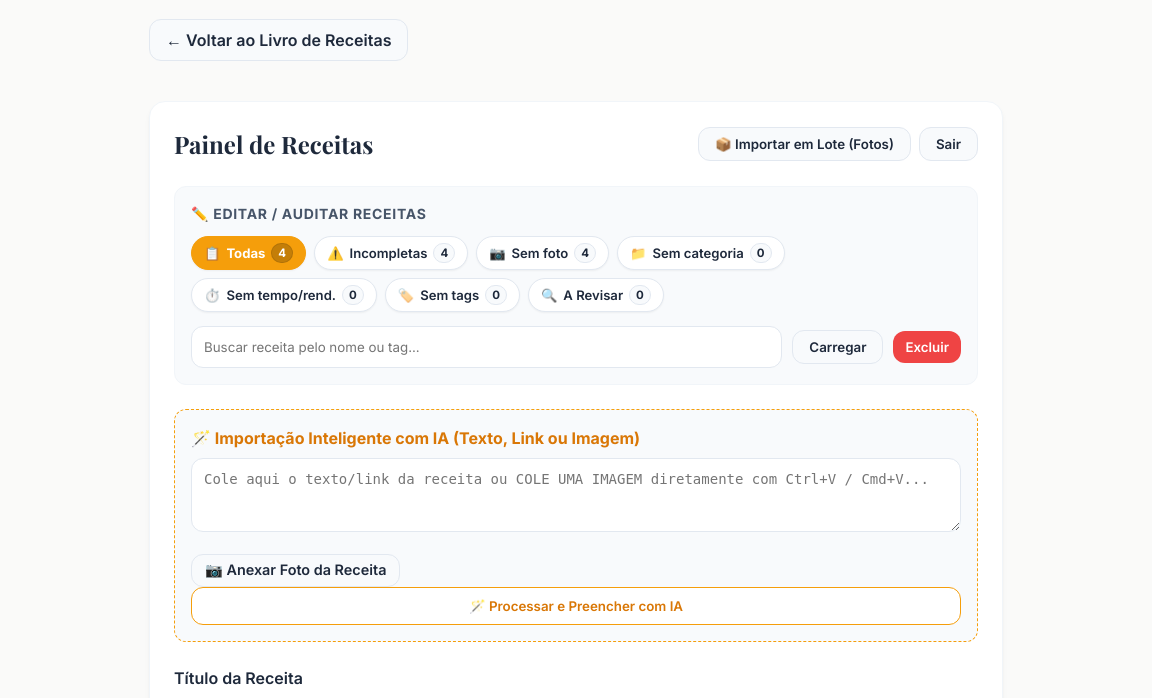
Test: Fluxo 6: Importação por IA → Fallback de Categoria em 3 Níveis (AIImportBox.integration.test.jsx) › Nível 3 (primeira disponível): faz fallback para a primeira categoria quando a categoria é desconhecida
Expected: the heading "Painel de Receitas" is shown, [174, 126, 373, 162]
Replace the text in the text box named "Texto, URL ou imagem da receita para importação inteligente" with "Receita desconhecida de outro mundo" at x=576, y=495, box [191, 458, 961, 532]
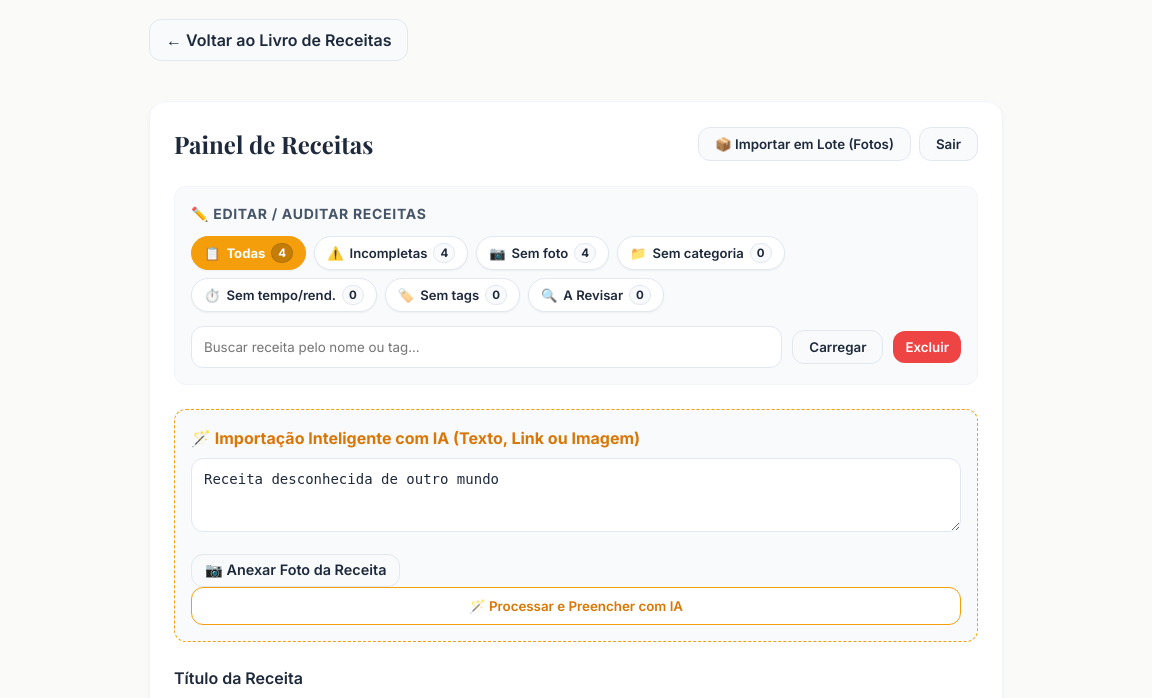
Click the button with aria-label "Importar e preencher receita com IA".
click(576, 606)  # box [191, 587, 961, 625]
(page scrolled)
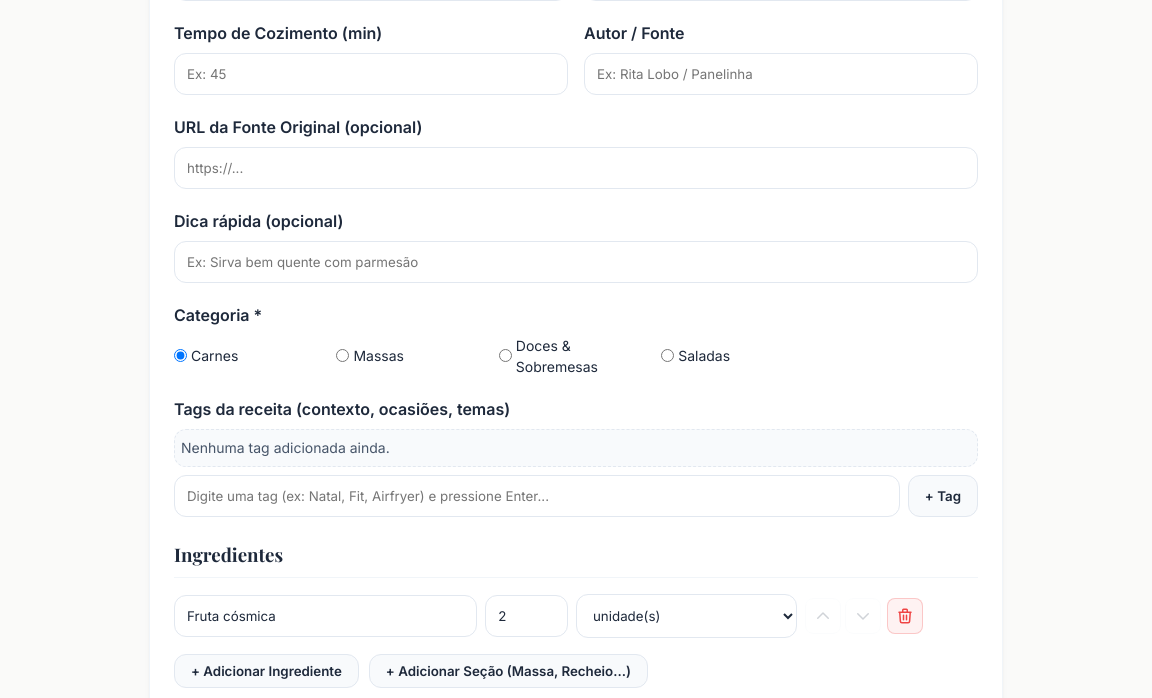
Expected: the radio button labelled "Carnes" is checked, [174, 349, 187, 362]
